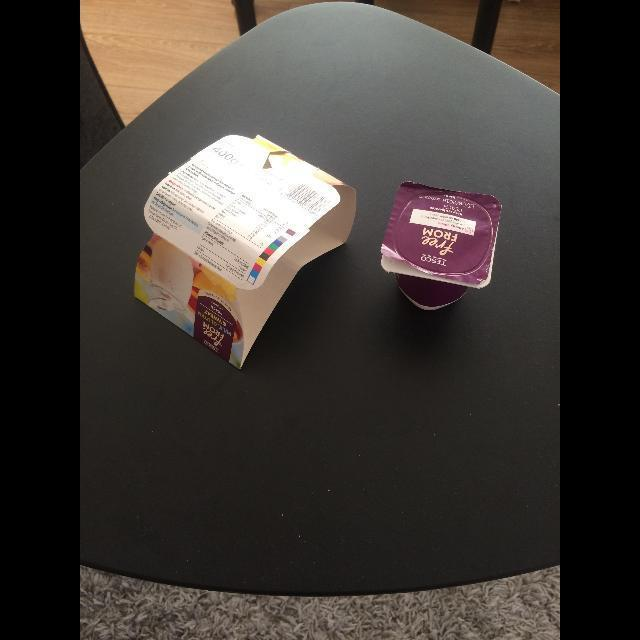Paper: (130, 129, 367, 381)
Plastic: (381, 182, 502, 310), (381, 182, 501, 284)
